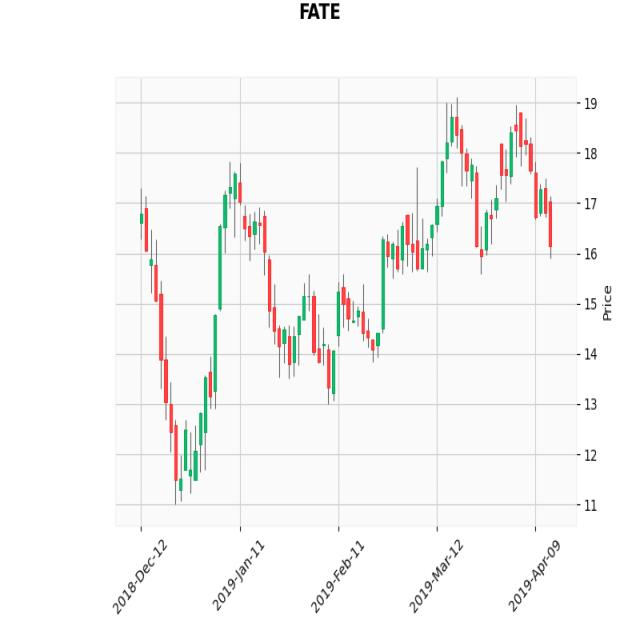Double-Top: (428, 93, 557, 267)
